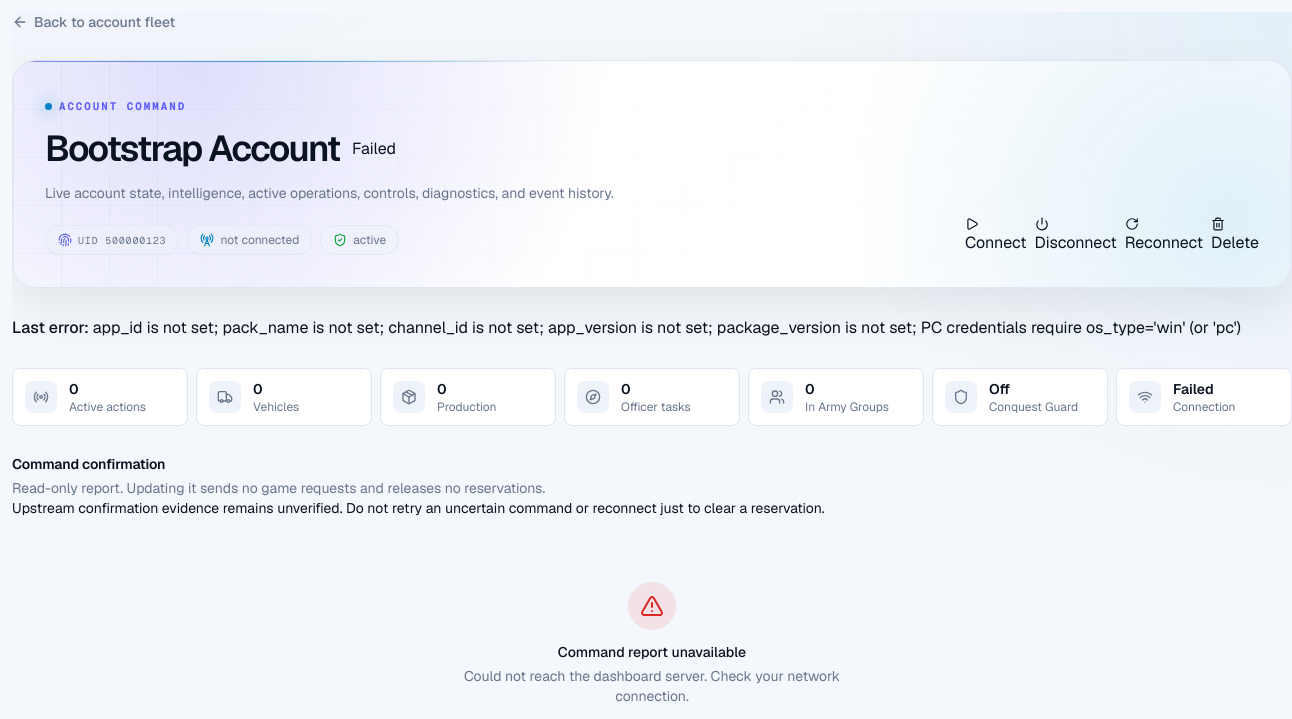
it: AccountDetailsClient — connection state always reflects the latest poll › replaces a stale failed/422 error with a newer successful connection after connect + polling
The image size is (1292, 719).
Expected: the text "app_id is not set" is shown, [93, 317, 1241, 338]
Click the button "Connect": [996, 236] box [965, 217, 1026, 255]
Wait 4000 ms
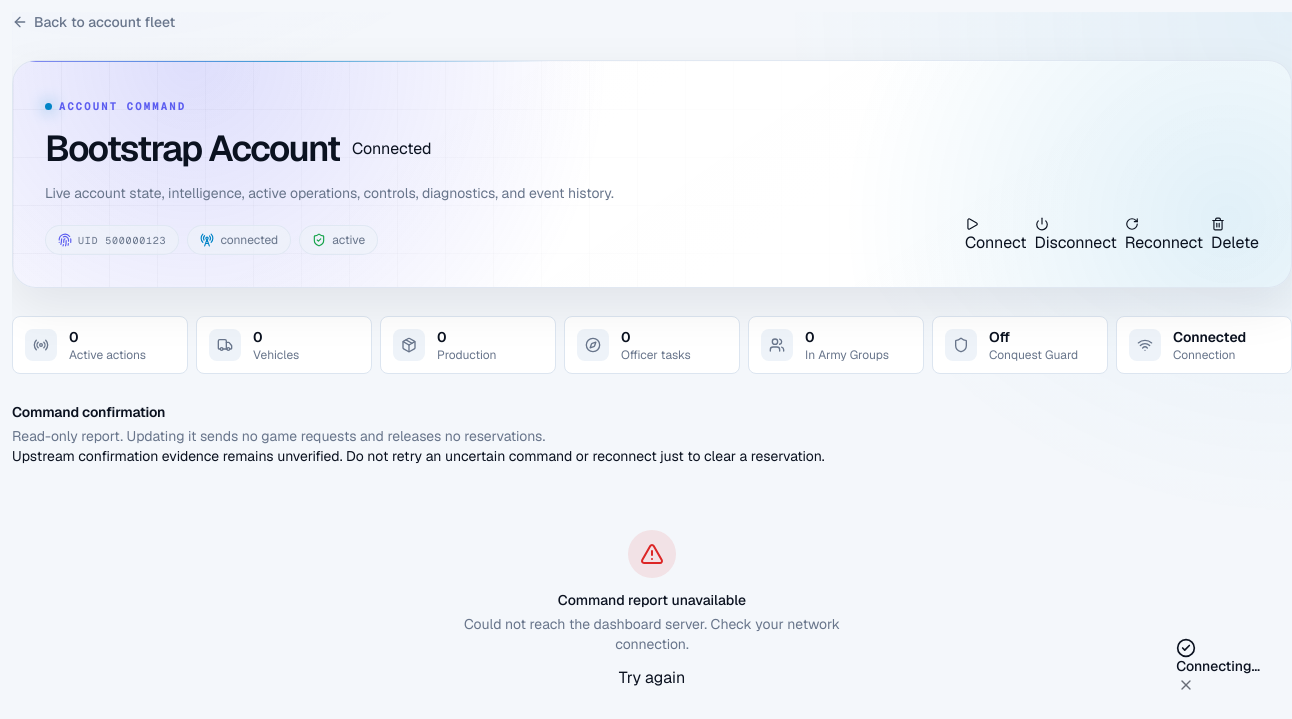
Expected: the text "Connected" is shown, [352, 137, 432, 161]
Expected: the text "Failed" is gone
Expected: the text "app_id is not set" is gone
